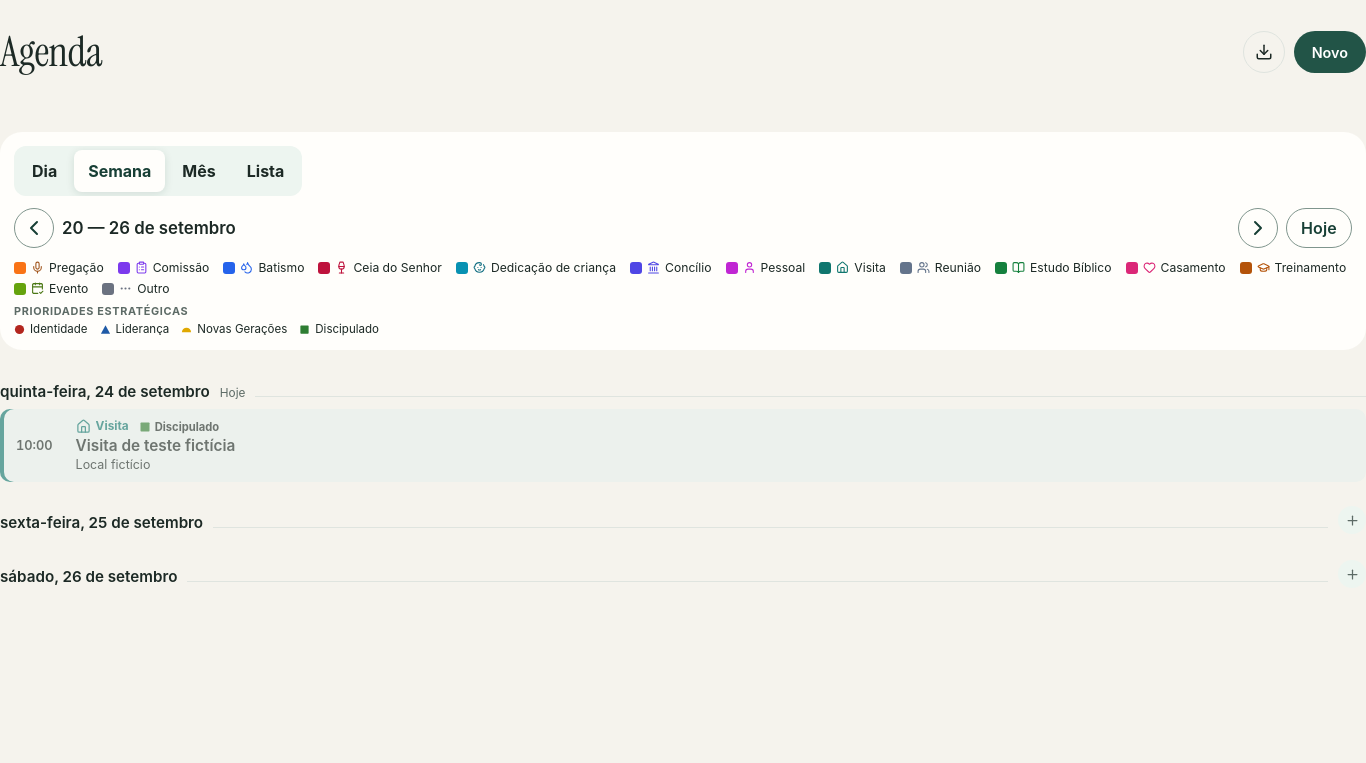
Test: agenda visual › alterna entre Dia, Semana, Mês e Lista com controles acessíveis
Click the tab "Dia" at (45, 171), box [18,150,71,192]
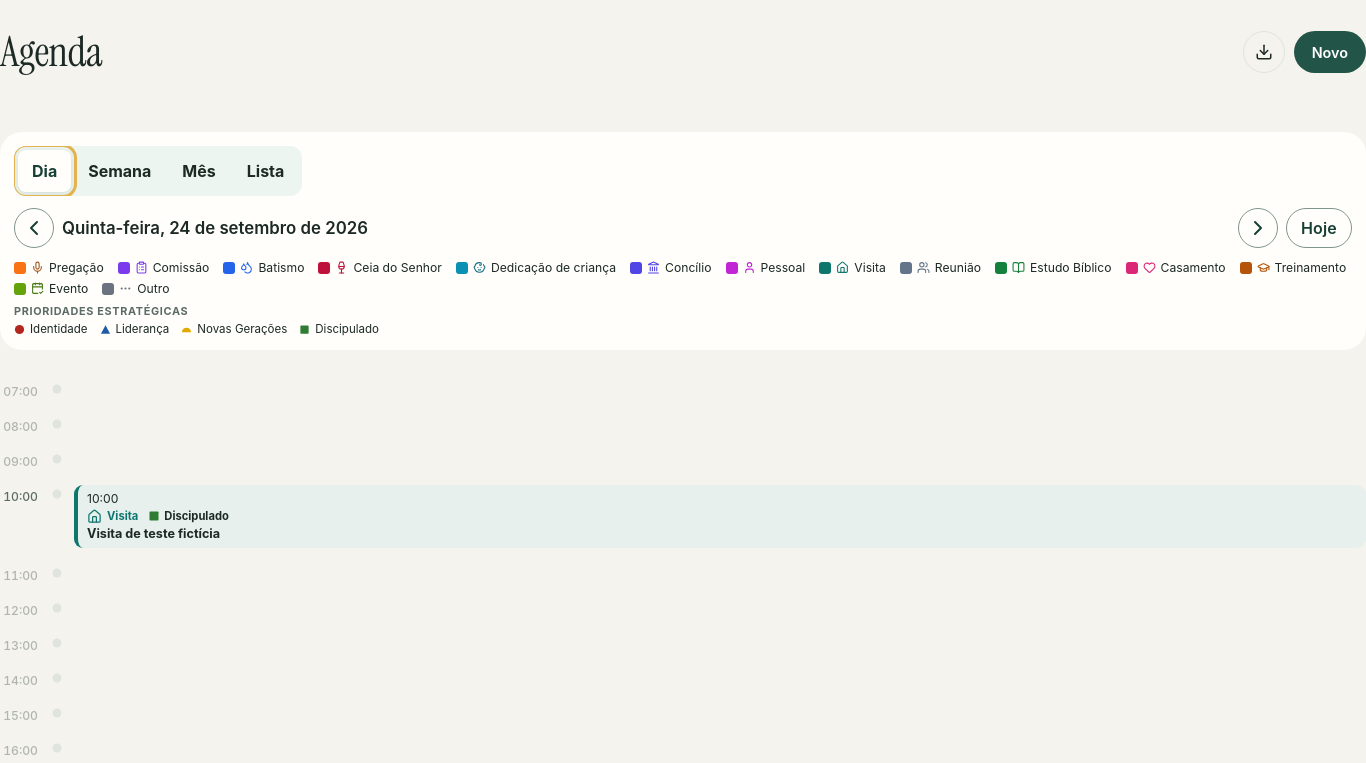
Click the tab "Mês" at (199, 171), box [168,150,230,192]
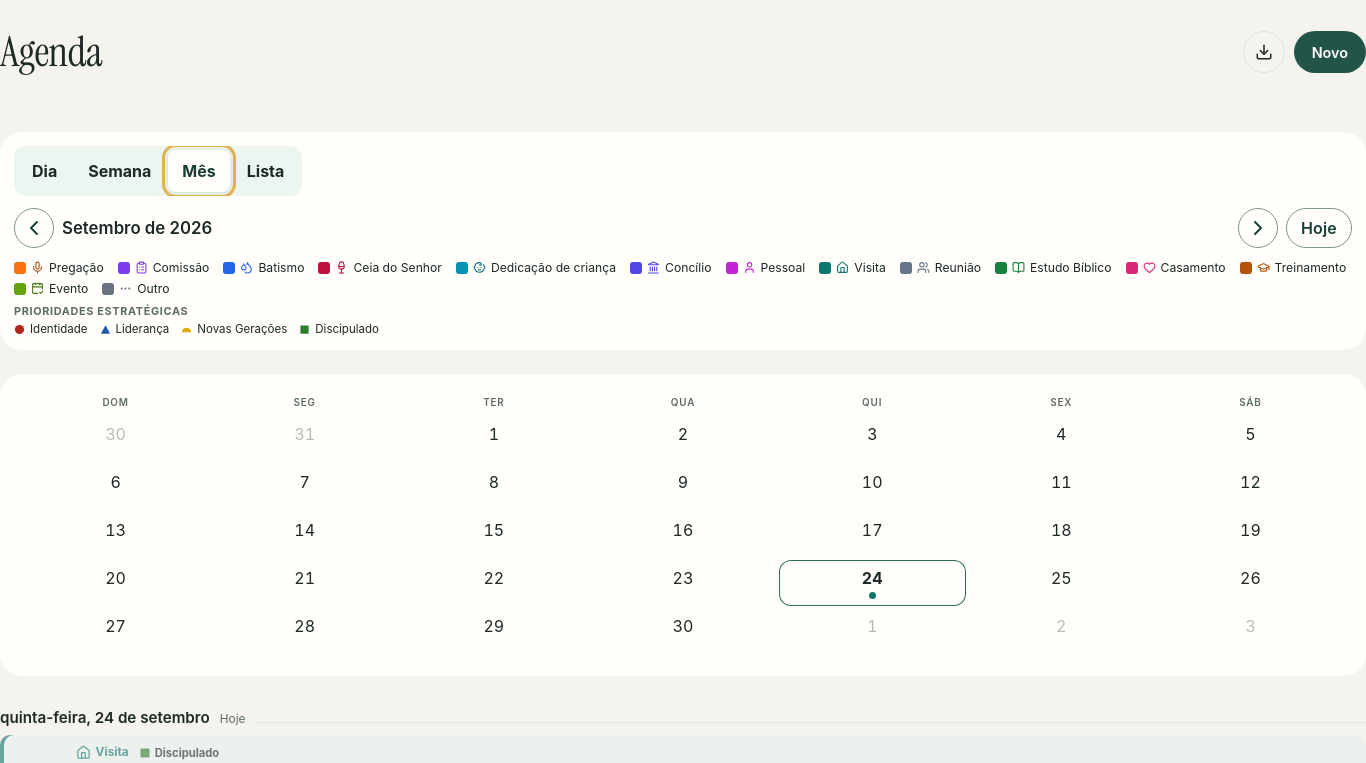
Check: the element named "Calendário mensal" is shown, box [22,396,1344,654]
Click the tab "Lista" at (266, 171), box [233,150,298,192]
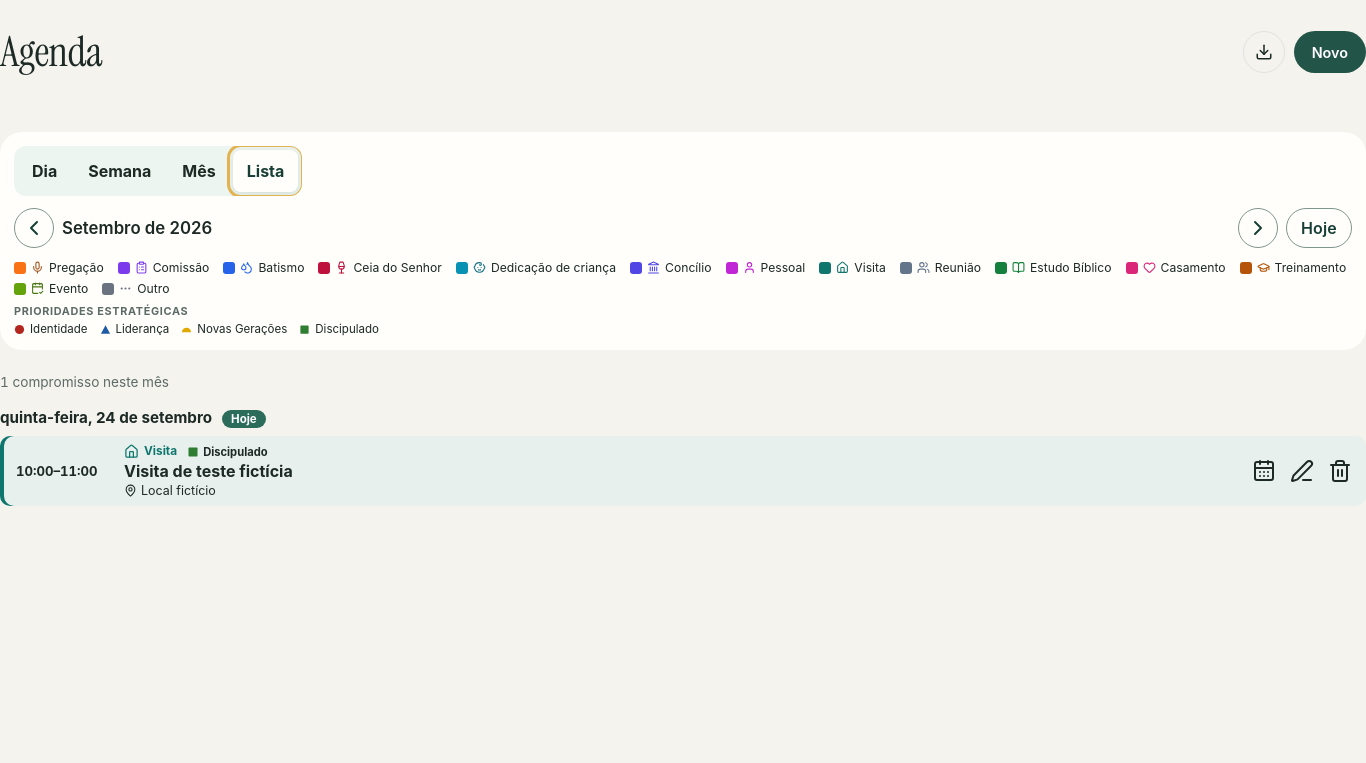
Check: the link named "editar visita de teste fictícia" is shown, box [1290,459,1314,483]
